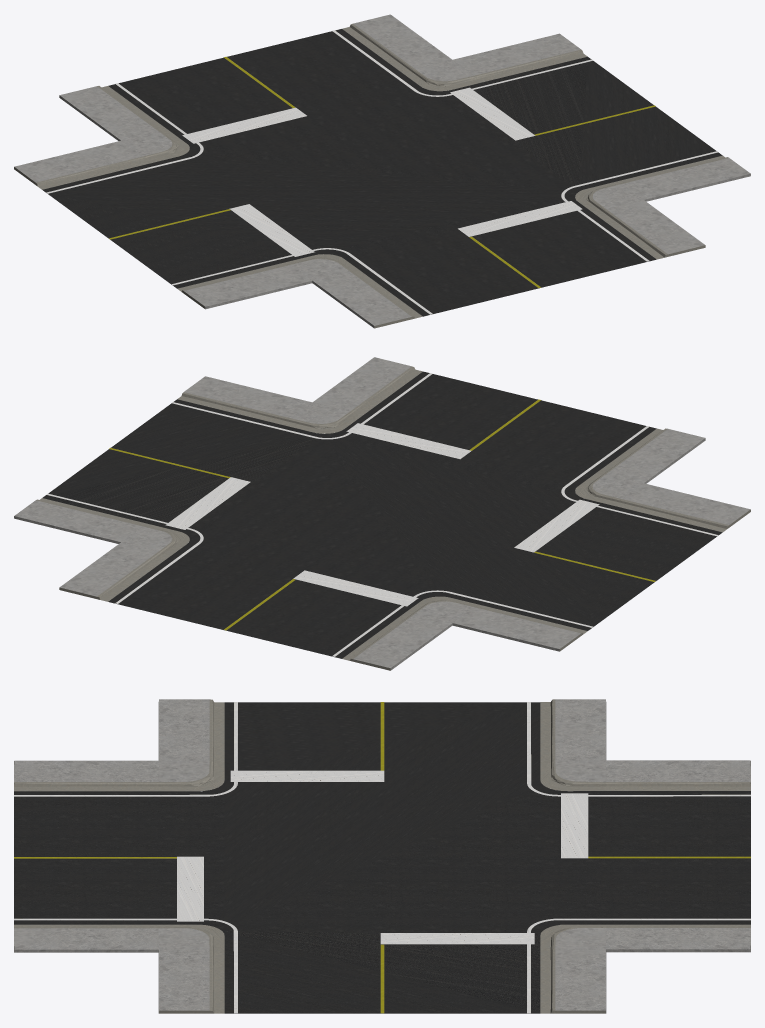
Rendered from crossing.fbx.
The picture shows the model from 3 angles, top to bottom: view 1: azimuth 30°, elevation 25°; view 2: azimuth 150°, elevation 25°; view 3: azimuth 270°, elevation 25°; orthographic projection. The views are drawn at different scales.
Visible parts, largest first — view 1: general_street_crossing_w_sidewalk; view 2: general_street_crossing_w_sidewalk; view 3: general_street_crossing_w_sidewalk.
Boxes of the visible parts, left/top/right/bottom form: general_street_crossing_w_sidewalk: left=14, top=14, right=750, bottom=328; general_street_crossing_w_sidewalk: left=14, top=357, right=750, bottom=670; general_street_crossing_w_sidewalk: left=14, top=699, right=750, bottom=1013.
Size of the model in its own units: 3360 by 16.2 by 3360.
Materials: 2 (2 with a texture image).
